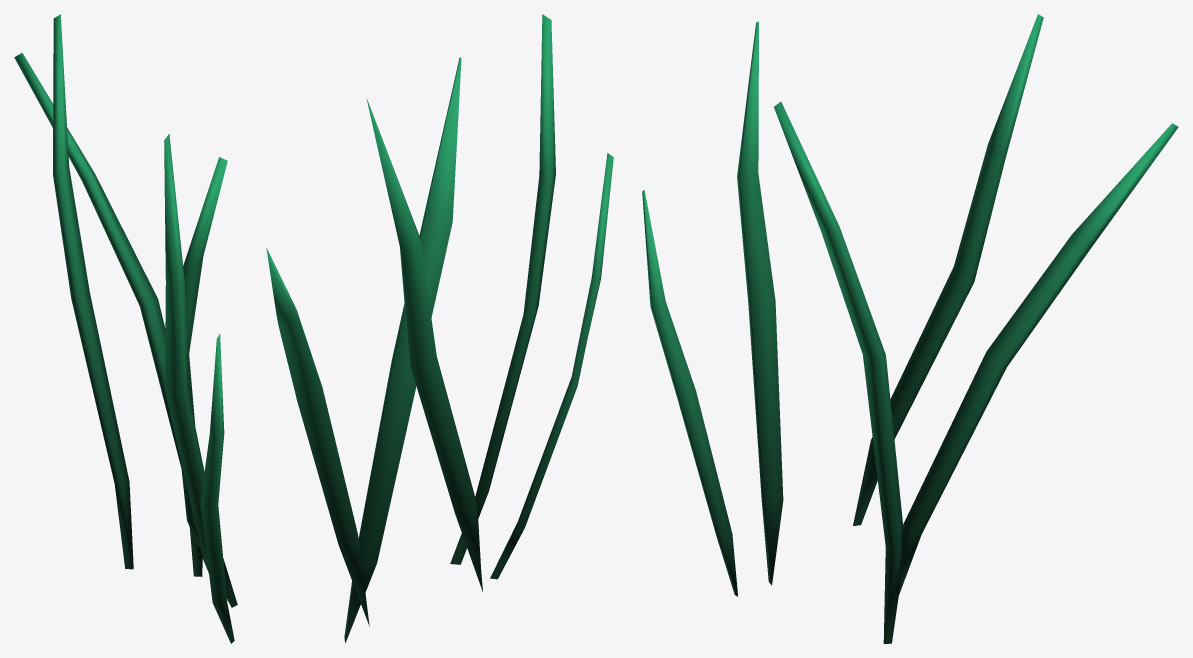
Rendered from grass1.fbx.
3 views of the same model, side by side, from view 1: azimuth 30°, elevation 25°; view 2: azimuth 150°, elevation 25°; view 3: azimuth 270°, elevation 25° (orthographic). The views are drawn at different scales.
Visible parts, largest first — view 1: grass12; view 2: grass12; view 3: grass12.
Boxes of the visible parts, left/top/right/bottom form: grass12: left=14, top=14, right=237, bottom=643; grass12: left=266, top=14, right=613, bottom=642; grass12: left=642, top=14, right=1178, bottom=643.
Bounding box in the file's own units: 21.72 × 93.57 × 77.86.
